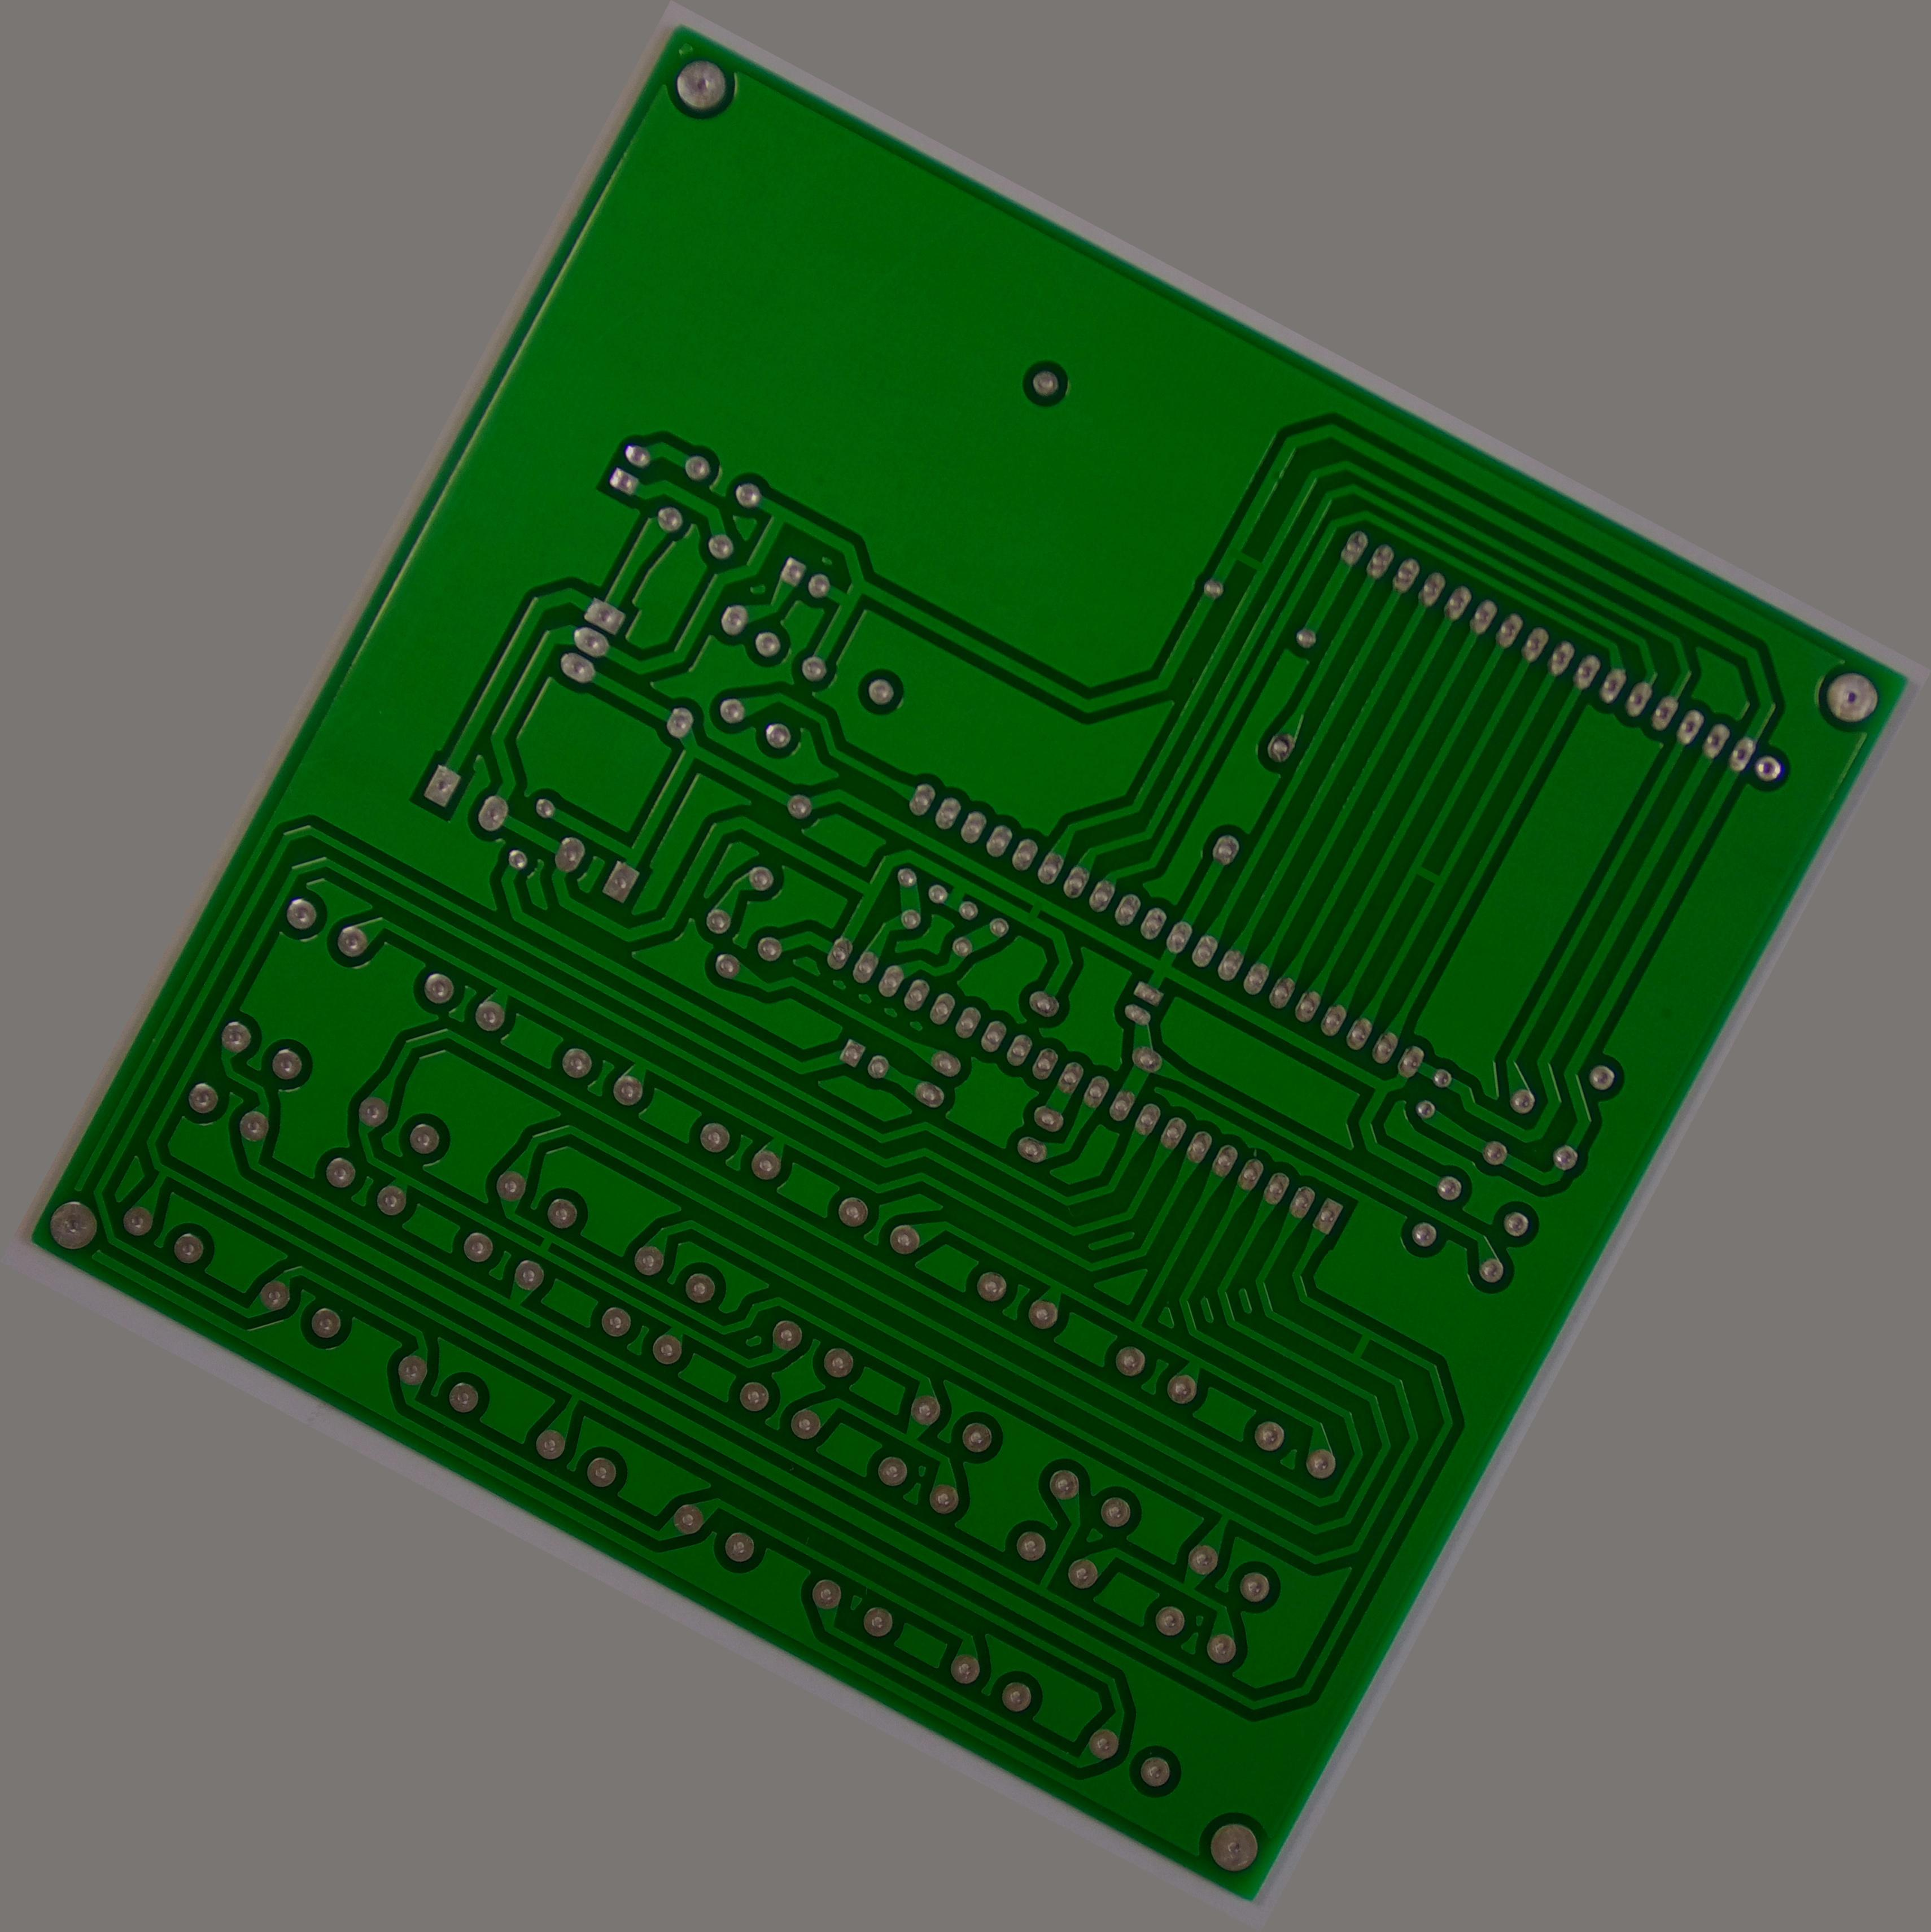short: (1215, 529, 1278, 584), (1333, 1311, 1388, 1375), (1397, 846, 1457, 902), (1011, 885, 1061, 939), (525, 1221, 566, 1263)
